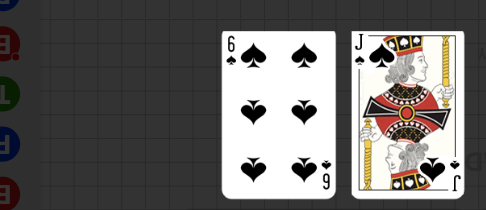6S: (319, 157, 332, 191), (226, 34, 238, 67)
JS: (353, 33, 397, 80), (420, 154, 464, 200)
